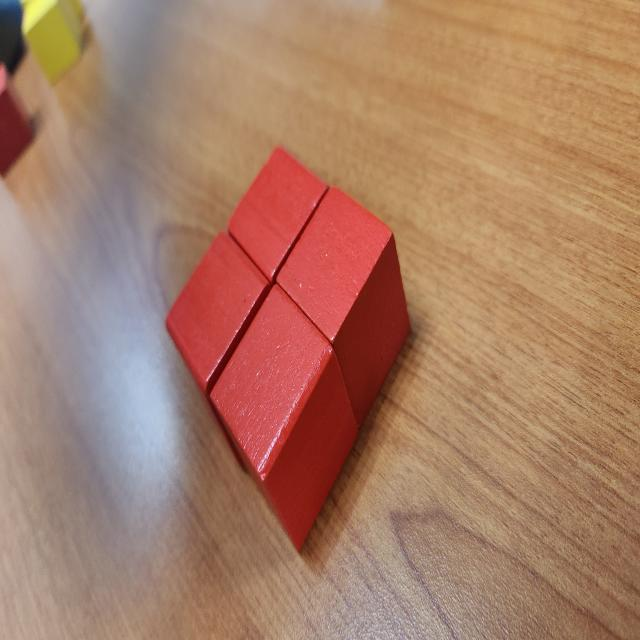red: (207, 284, 361, 554), (274, 184, 411, 442), (166, 231, 270, 443), (227, 146, 328, 284), (0, 60, 35, 180)
yellow: (20, 0, 85, 90)
